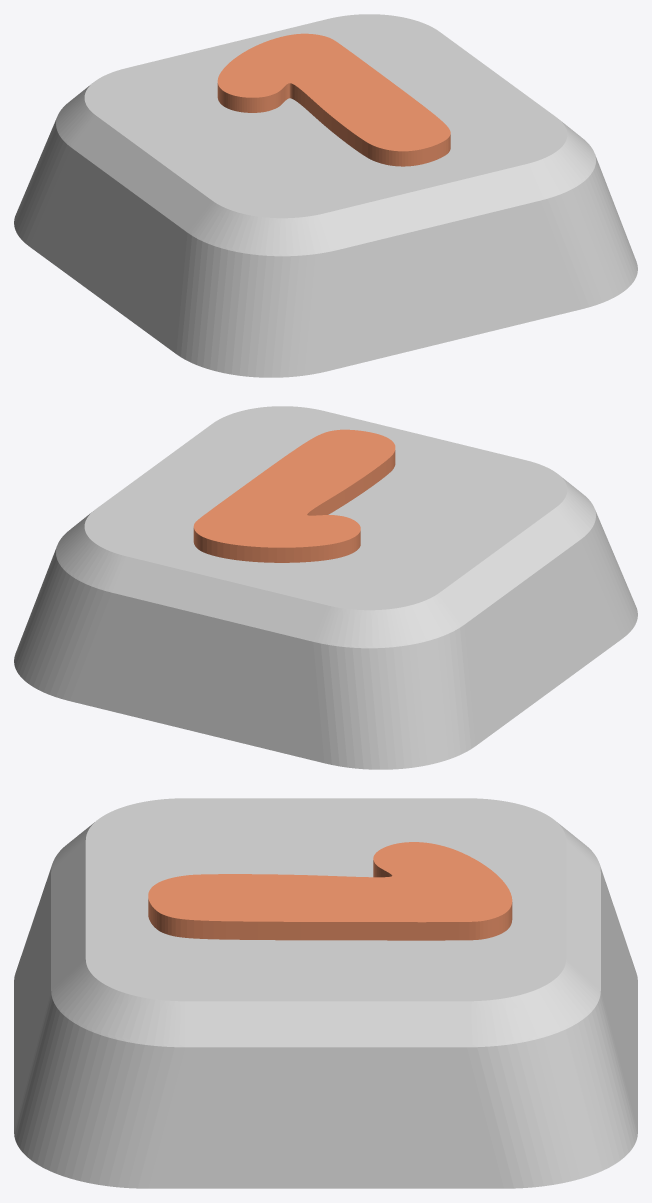
The model's file is cap-1.glb.
The picture shows the model from 3 angles, top to bottom: view 1: azimuth 30°, elevation 25°; view 2: azimuth 150°, elevation 25°; view 3: azimuth 270°, elevation 25°; orthographic projection. The views are drawn at different scales.
Visible parts, largest first — view 1: cap_0, glyph_1; view 2: cap_0, glyph_1; view 3: cap_0, glyph_1.
Part boxes in pixels (box(x1,y1,x2,y2)): cap_0: box(14, 14, 637, 377); glyph_1: box(217, 33, 450, 166); cap_0: box(14, 406, 637, 769); glyph_1: box(193, 429, 395, 562); cap_0: box(14, 798, 637, 1188); glyph_1: box(148, 842, 512, 940).
Bounding box in the file's own units: 18 × 5.59 × 18.
